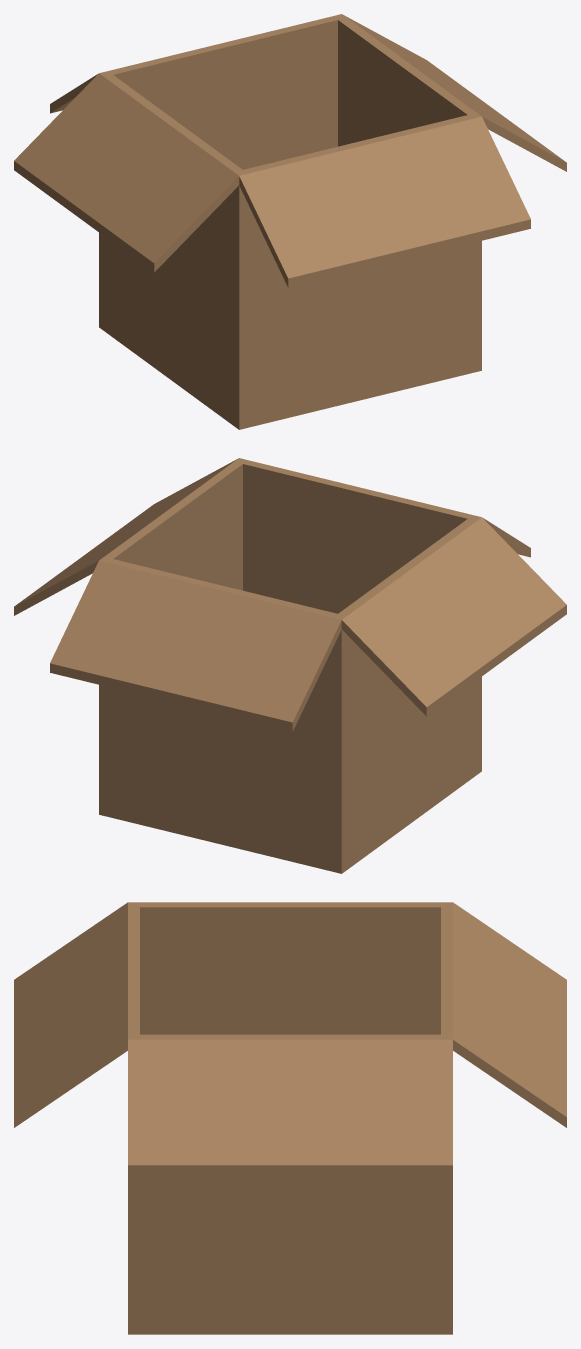
The model's file is cardboard-box.fbx.
3 renders of one model, top to bottom at view 1: azimuth 30°, elevation 25°; view 2: azimuth 150°, elevation 25°; view 3: azimuth 270°, elevation 25°, orthographic. The views are drawn at different scales.
Visible parts, largest first — view 1: Cube; view 2: Cube; view 3: Cube.
Boxes of the visible parts, x1,y1,x2,y2 form: Cube: [14, 14, 566, 429]; Cube: [14, 458, 566, 873]; Cube: [14, 902, 566, 1334].
Size of the model in its own units: 340 by 200 by 340.
